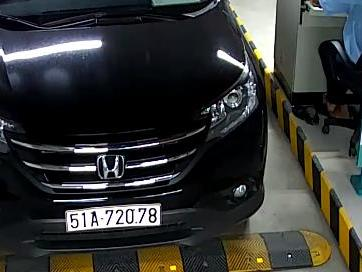number: (66, 202, 159, 232)
